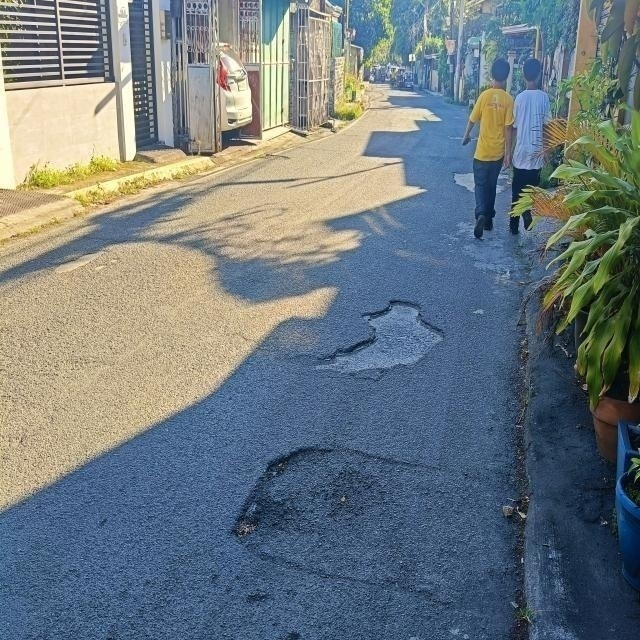pothole: (227, 440, 500, 596), (315, 294, 456, 388)
